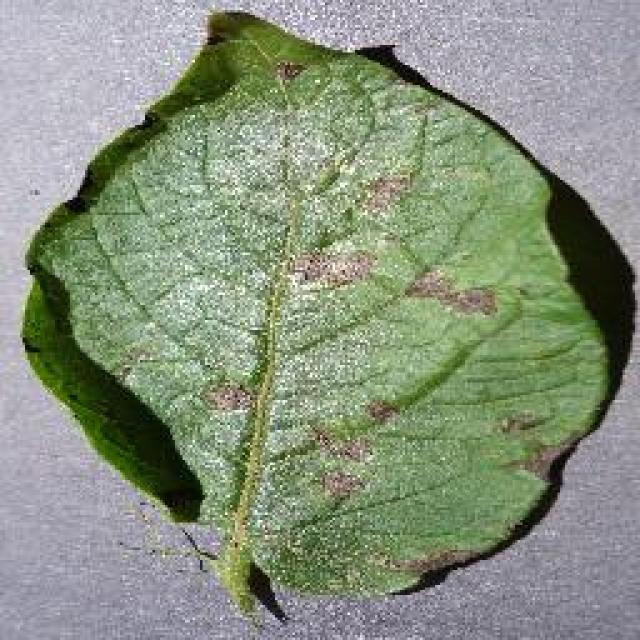early_blight: (18, 5, 628, 623)
